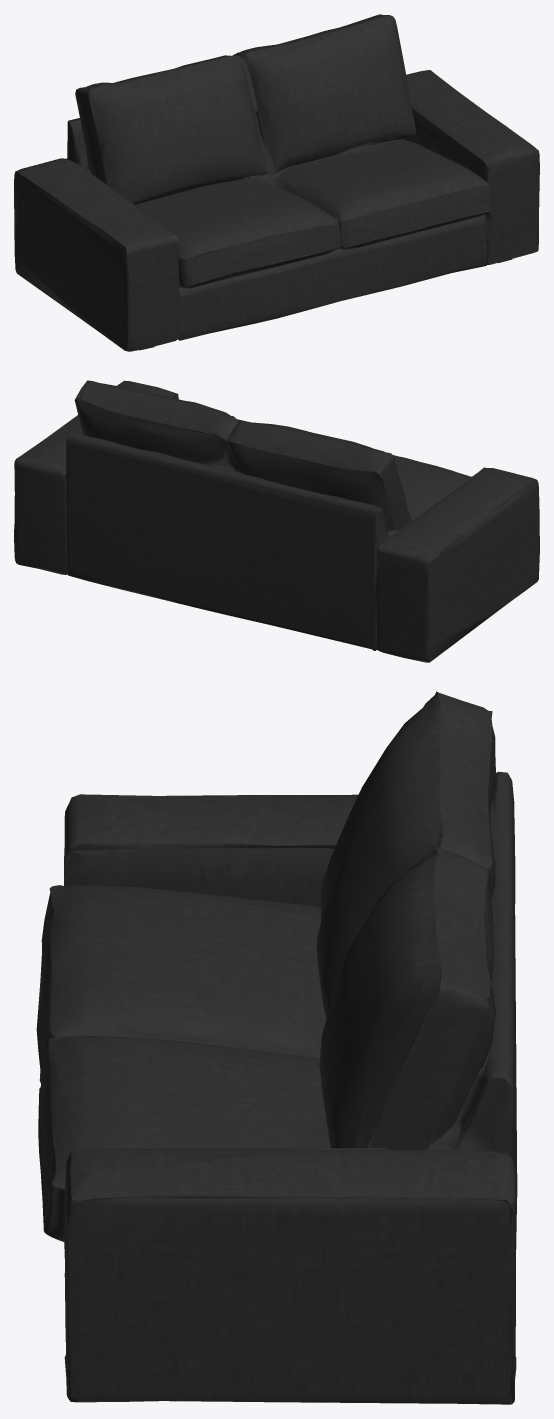
The model's file is cover-tresund-antracyt.glb.
3 renders of one model, top to bottom at view 1: azimuth 30°, elevation 25°; view 2: azimuth 150°, elevation 25°; view 3: azimuth 270°, elevation 25°, orthographic. The views are drawn at different scales.
Visible parts, largest first — view 1: ProcessedMeshNode; view 2: ProcessedMeshNode; view 3: ProcessedMeshNode.
Part boxes in pixels (left/top/right/bottom): ProcessedMeshNode: left=14, top=14, right=539, bottom=351; ProcessedMeshNode: left=14, top=380, right=539, bottom=662; ProcessedMeshNode: left=36, top=691, right=517, bottom=1404.
Bounding box in the file's own units: 1.9 × 0.8299 × 0.9501.
2 materials, 2 textured.
